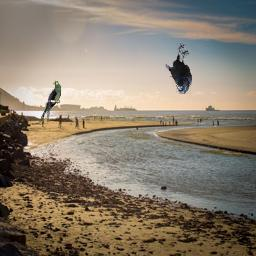Crow: (162, 42, 192, 96)
Cuckoo: (37, 80, 61, 122)
